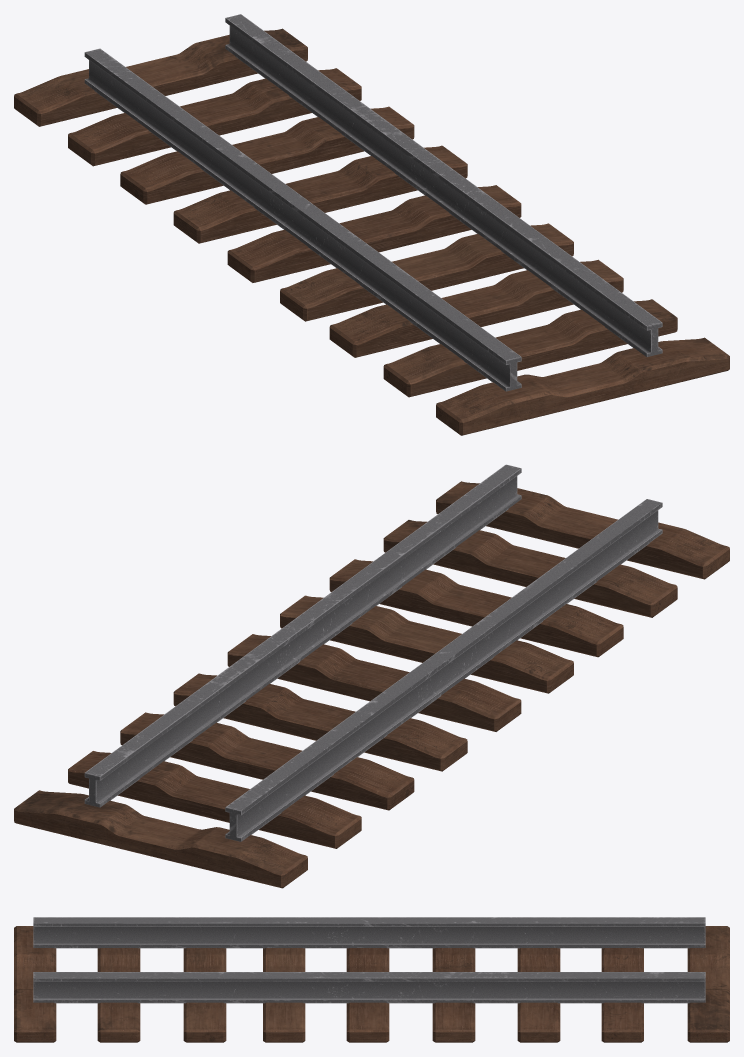
File: railway.fbx
The picture shows the model from 3 angles, top to bottom: view 1: azimuth 30°, elevation 25°; view 2: azimuth 150°, elevation 25°; view 3: azimuth 270°, elevation 25°; orthographic projection. The views are drawn at different scales.
Parts seen in each view (by area): view 1: pCube2, pCube5; view 2: pCube2, pCube5; view 3: pCube5, pCube2.
Boxes of the visible parts, x1,y1,x2,y2 form: pCube2: (14,28,729,435); pCube5: (84,14,662,391); pCube2: (14,481,729,888); pCube5: (84,464,662,841); pCube5: (33,917,705,1003); pCube2: (14,926,729,1042).
Size of the model in its own units: 27.14 by 5.18 by 77.86.
Materials: 2 (2 with a texture image).
